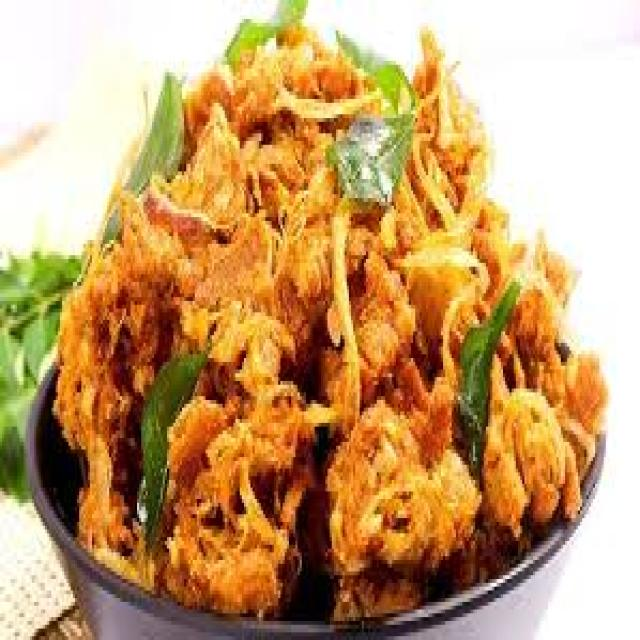BAJI: (68, 39, 598, 623)
